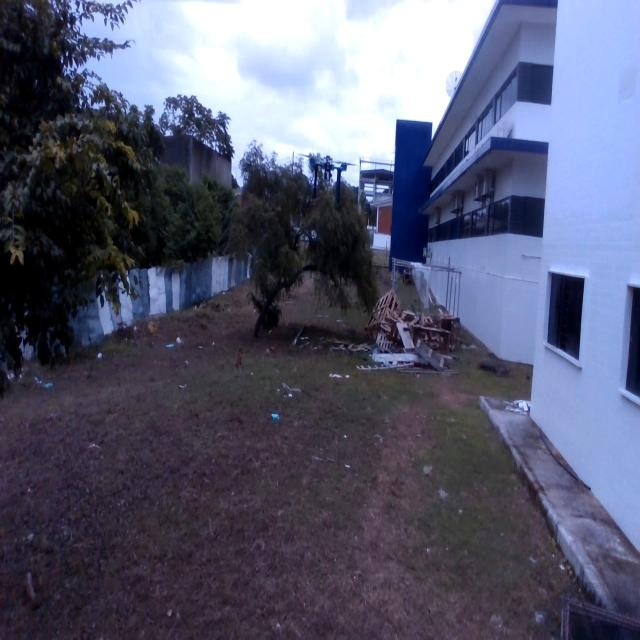-uav-: (302, 144, 356, 202)
